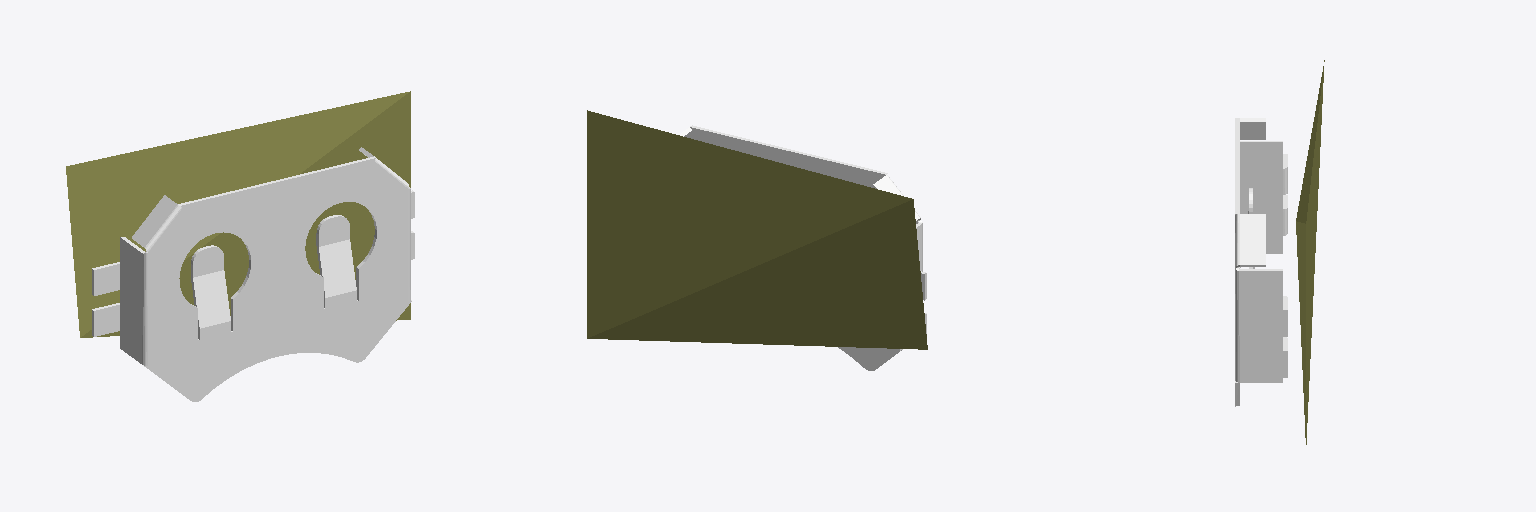
Rendered from OBJ_NEW_PCB.obj.
3 renders of one model, left to right at view 1: azimuth 30°, elevation 25°; view 2: azimuth 150°, elevation 25°; view 3: azimuth 270°, elevation 25°, orthographic.
Size of the model in its own units: 105 by 68.34 by 24.17.